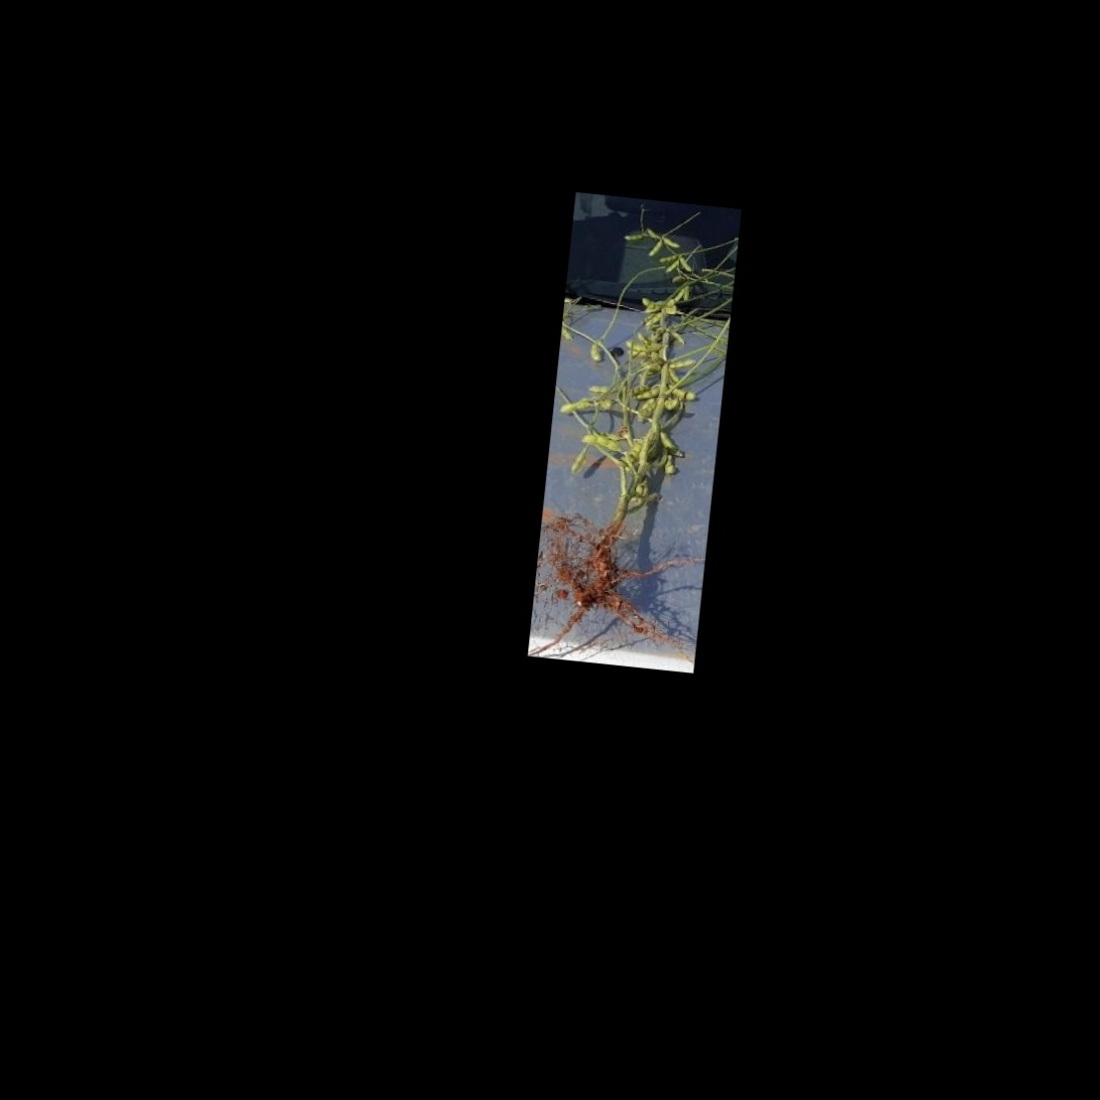pod: (578, 434, 626, 456), (556, 396, 592, 418), (569, 446, 588, 478), (667, 357, 695, 373), (586, 341, 606, 364), (647, 237, 664, 259), (639, 297, 663, 312), (672, 387, 697, 401), (676, 255, 694, 274), (586, 383, 612, 396), (669, 330, 689, 347), (622, 231, 644, 244), (673, 285, 687, 304), (662, 237, 682, 249), (664, 258, 677, 275), (682, 285, 691, 303)
soy: (534, 196, 730, 647)
